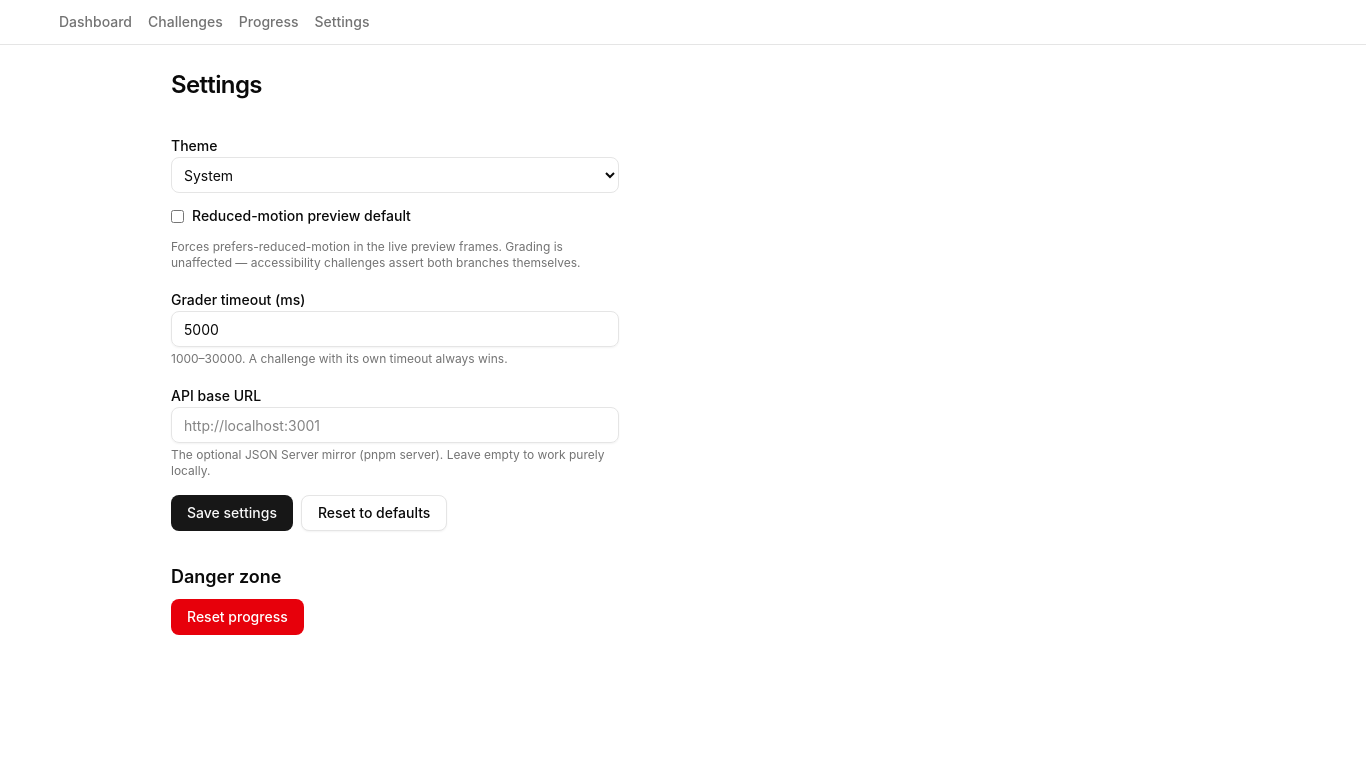
Test: SettingsPage › rejects an out-of-range grader timeout with a visible error and no store write
Replace the text in the number field labelled "Grader timeout (ms)" with "100" at (395, 329), box [171, 311, 619, 347]
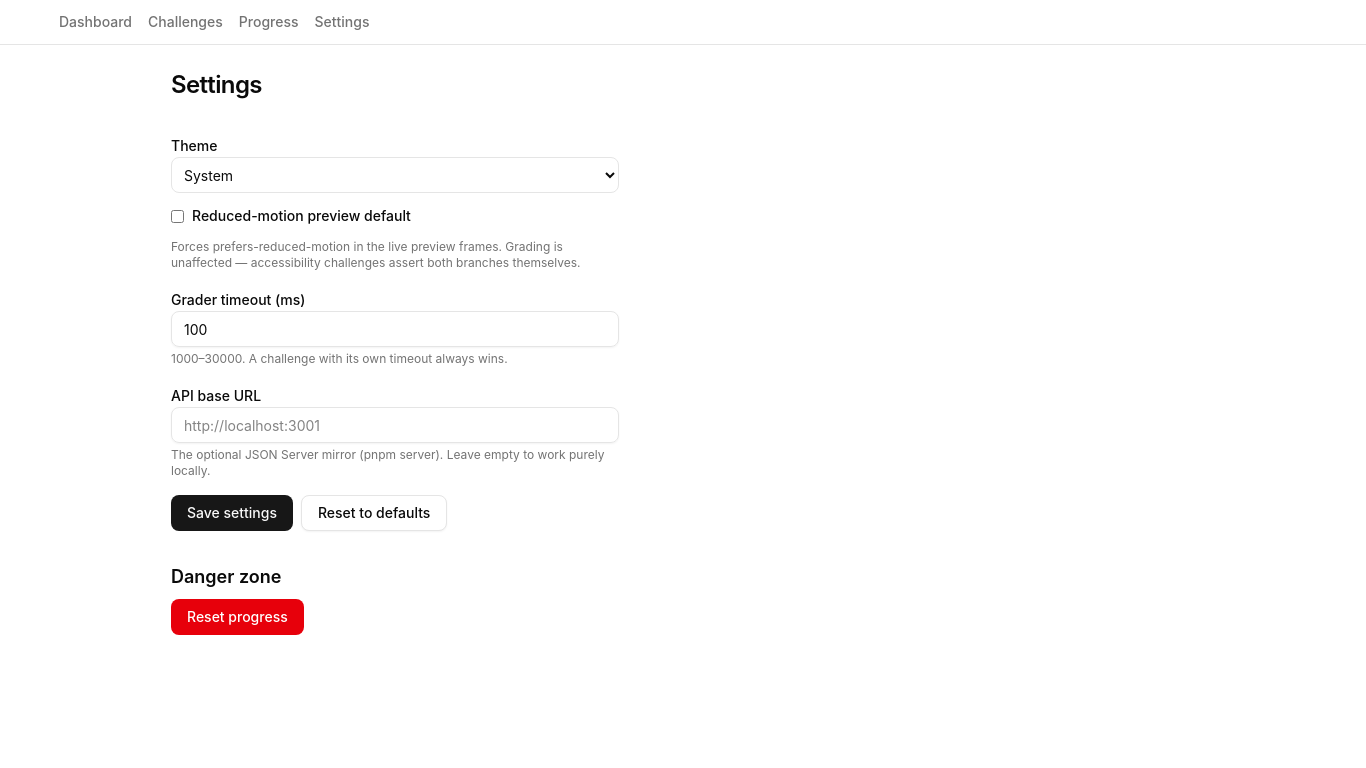
Click the button "Save settings" at (232, 513), box [171, 495, 293, 531]
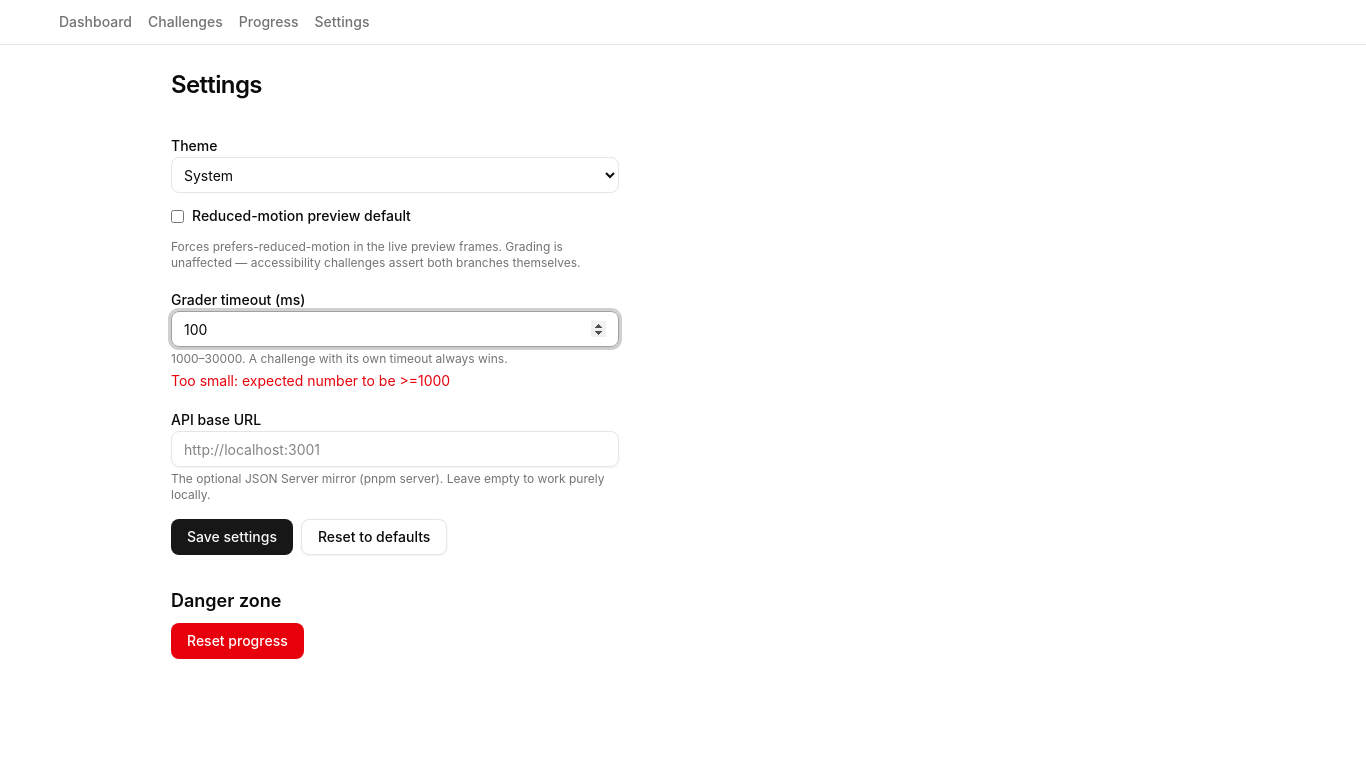
Now the message "Too small: expected number to be >=1000" is shown, box [171, 372, 450, 389]
